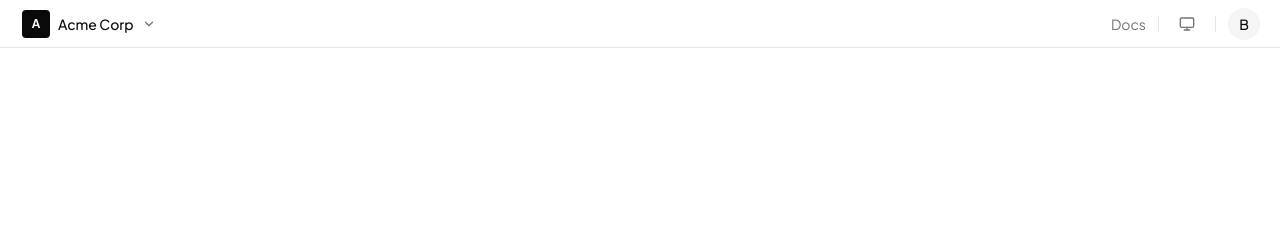
Scenario: TopBar › opens a dropdown with Log out on avatar click
Click the button "B": (1244, 24) [1228,8,1260,40]
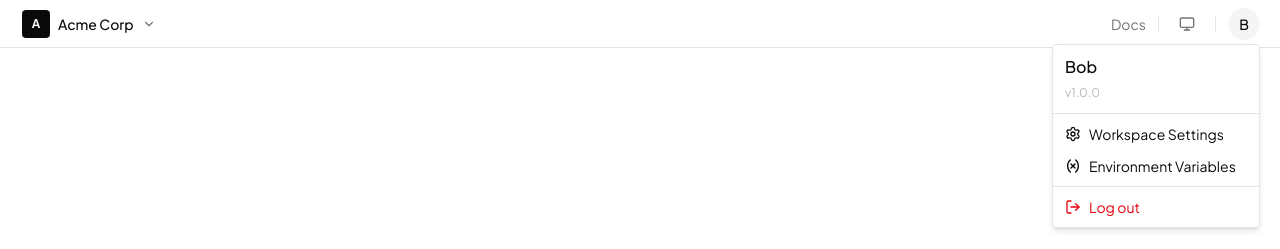
Result: the menu item "Log out" is shown at [1065,198,1140,216]
